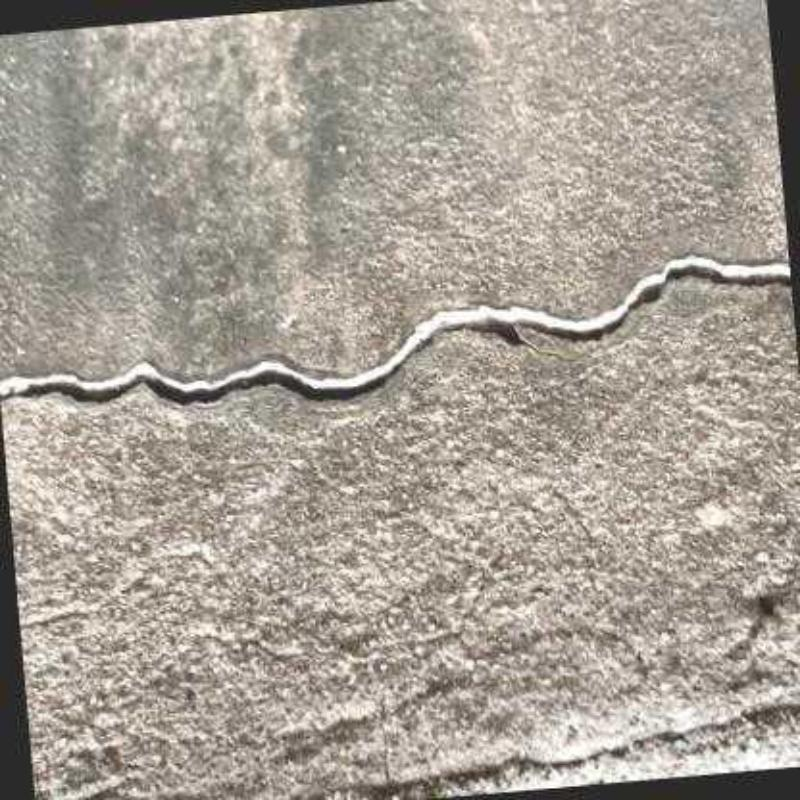crack: (0, 243, 793, 416)
